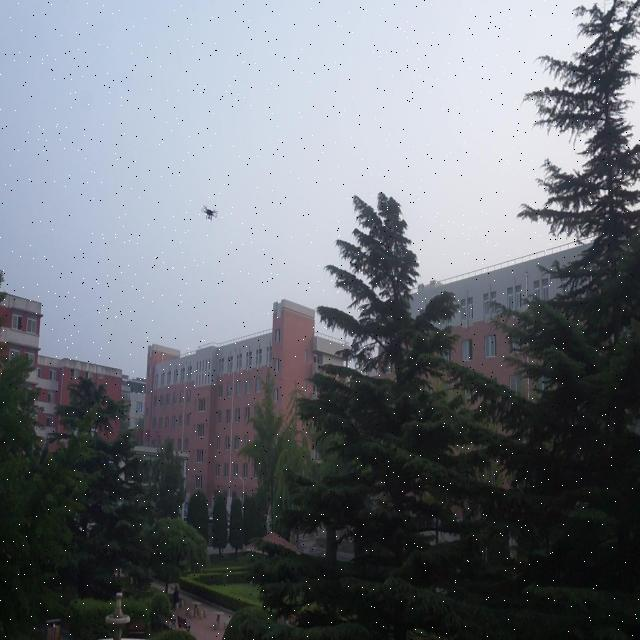UAV: (201, 205, 218, 222)
